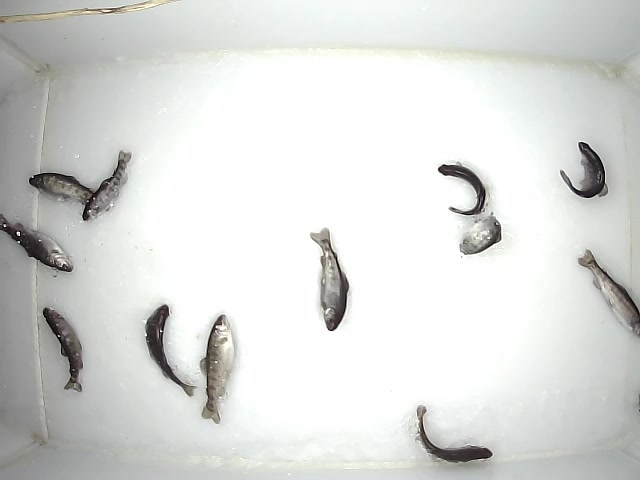fish: (576, 246, 640, 338), (140, 303, 199, 397), (415, 404, 494, 464), (1, 213, 76, 274), (307, 226, 350, 331), (197, 312, 237, 424), (81, 148, 134, 223), (40, 308, 85, 394), (27, 171, 112, 216), (557, 140, 608, 199), (436, 160, 488, 215), (457, 211, 502, 256)
